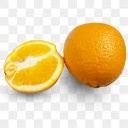orange: (62, 22, 127, 89), (3, 39, 66, 94)
